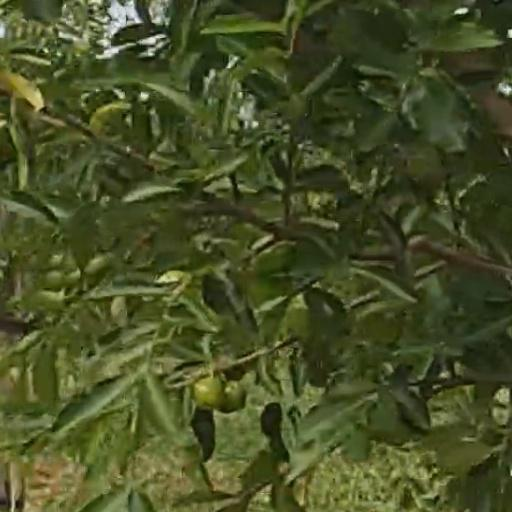acerola_verde: (195, 378, 222, 409), (224, 381, 243, 410)
